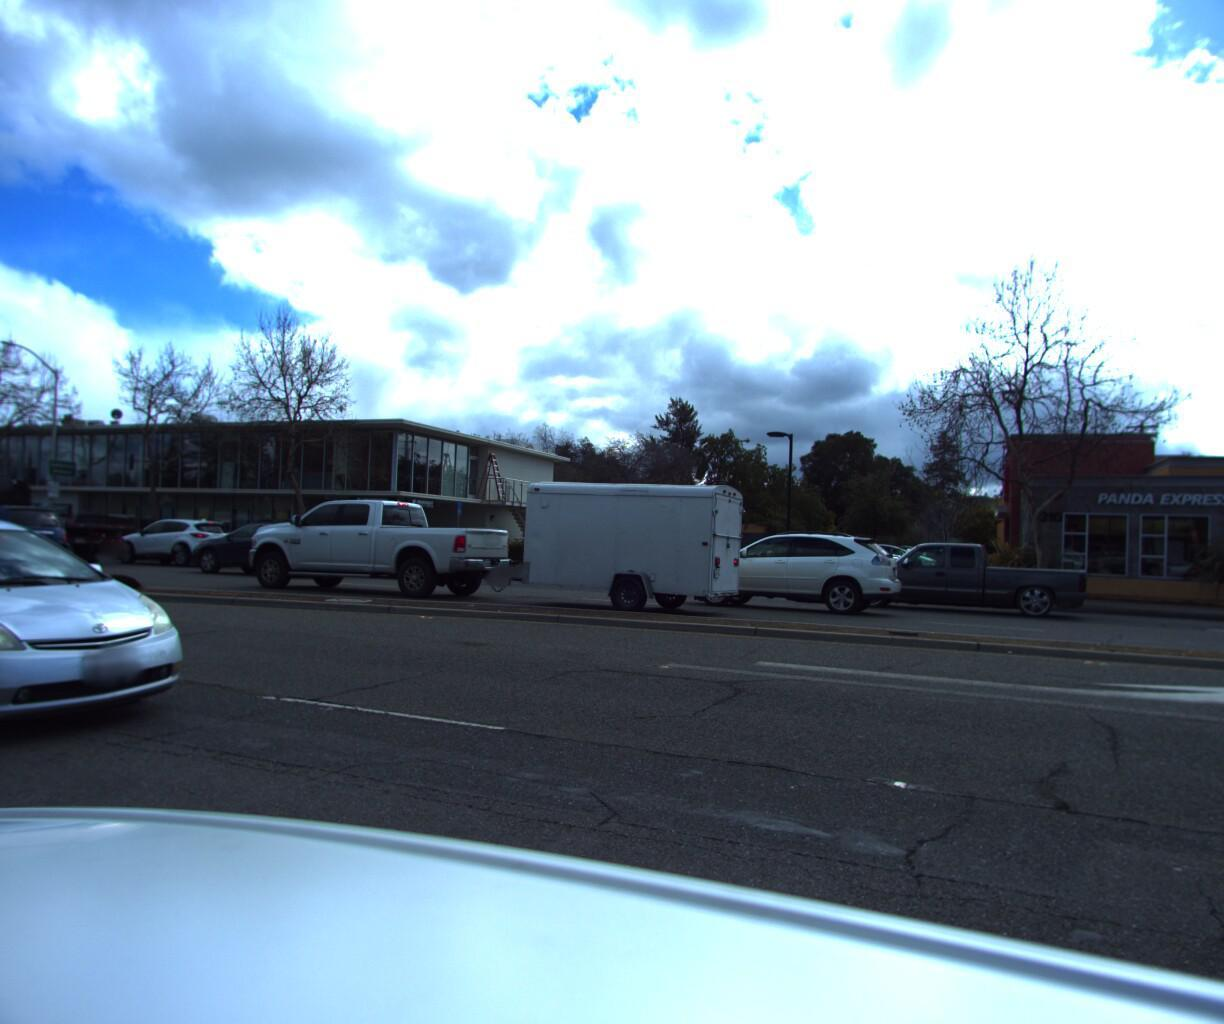car: (0, 499, 220, 769), (232, 499, 538, 616), (833, 542, 1088, 626), (687, 530, 913, 624), (181, 519, 351, 590), (106, 521, 244, 575), (44, 515, 161, 566), (0, 506, 81, 581)
other_vehicle: (509, 481, 754, 624)
truck: (0, 478, 142, 573)
